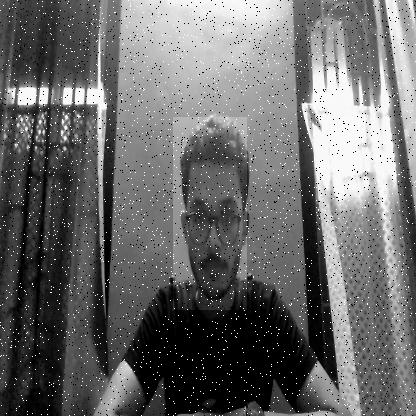Normal: (173, 117, 247, 310)
